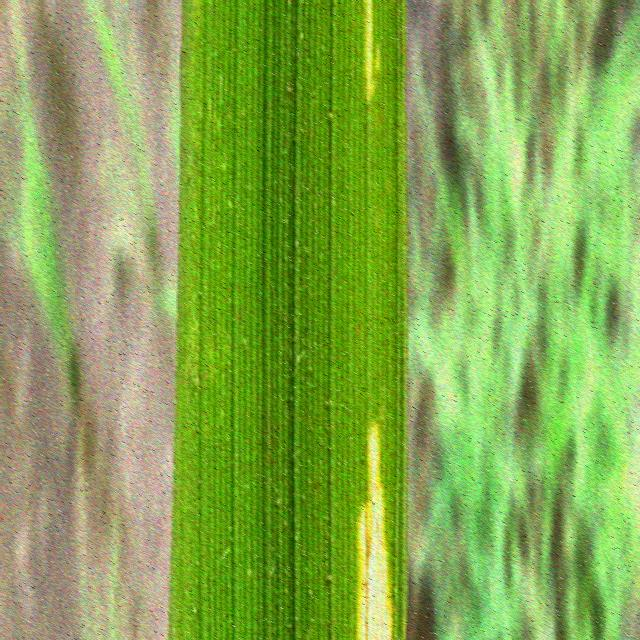BLS: (360, 426, 391, 640), (366, 0, 375, 102)
